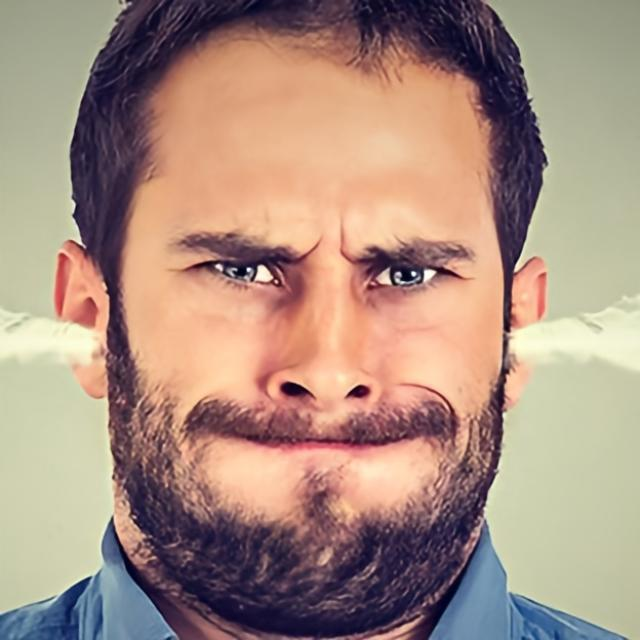anger: (121, 56, 508, 622)
